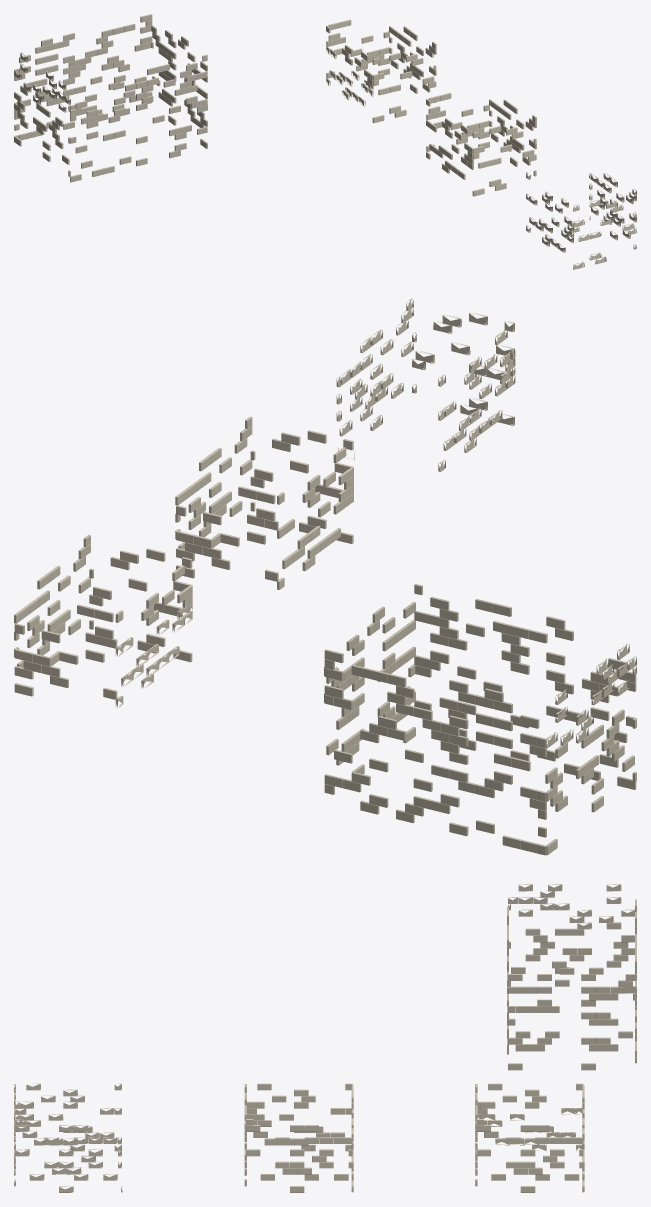
Rendered from Neris-08.glb.
3 views of the same model, one above another, from view 1: azimuth 30°, elevation 25°; view 2: azimuth 150°, elevation 25°; view 3: azimuth 270°, elevation 25° (orthographic). The views are drawn at different scales.
Visible parts, largest first — view 1: Limestone Block Tone 1.001, Limestone Block Tone 3.001; view 2: Limestone Block Tone 1.001, Limestone Block Tone 3.001; view 3: Limestone Block Tone 3.001, Limestone Block Tone 1.001.
Boxes of the visible parts, x1=… form: Limestone Block Tone 1.001: x1=14, y1=14, x2=207, y2=182; Limestone Block Tone 3.001: x1=326, y1=19, x2=636, y2=269; Limestone Block Tone 1.001: x1=324, y1=584, x2=636, y2=855; Limestone Block Tone 3.001: x1=14, y1=298, x2=515, y2=707; Limestone Block Tone 3.001: x1=14, y1=1083, x2=584, y2=1192; Limestone Block Tone 1.001: x1=507, y1=884, x2=636, y2=1070.
Size of the model in its own units: 44.9 by 11.55 by 59.4.
